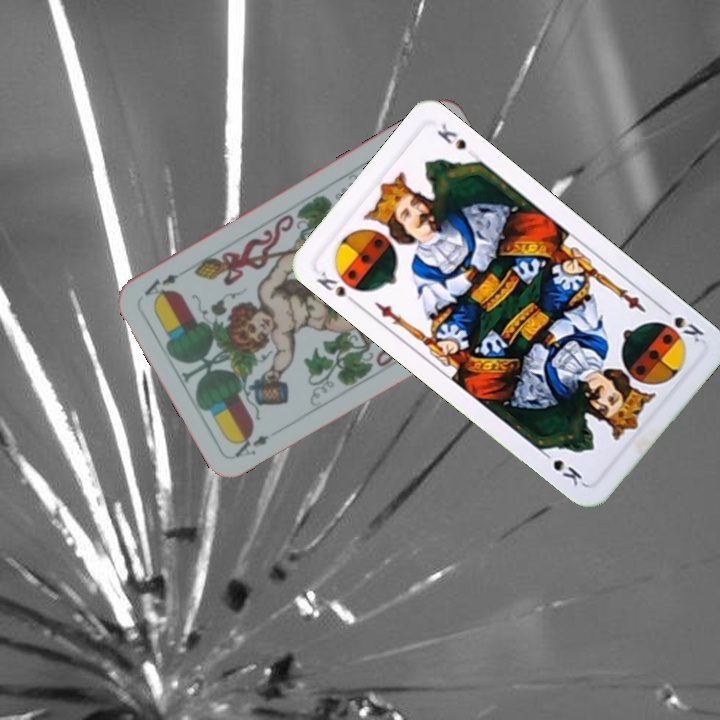EA: (228, 429, 271, 460)
SK: (655, 302, 707, 346), (312, 267, 362, 307)
